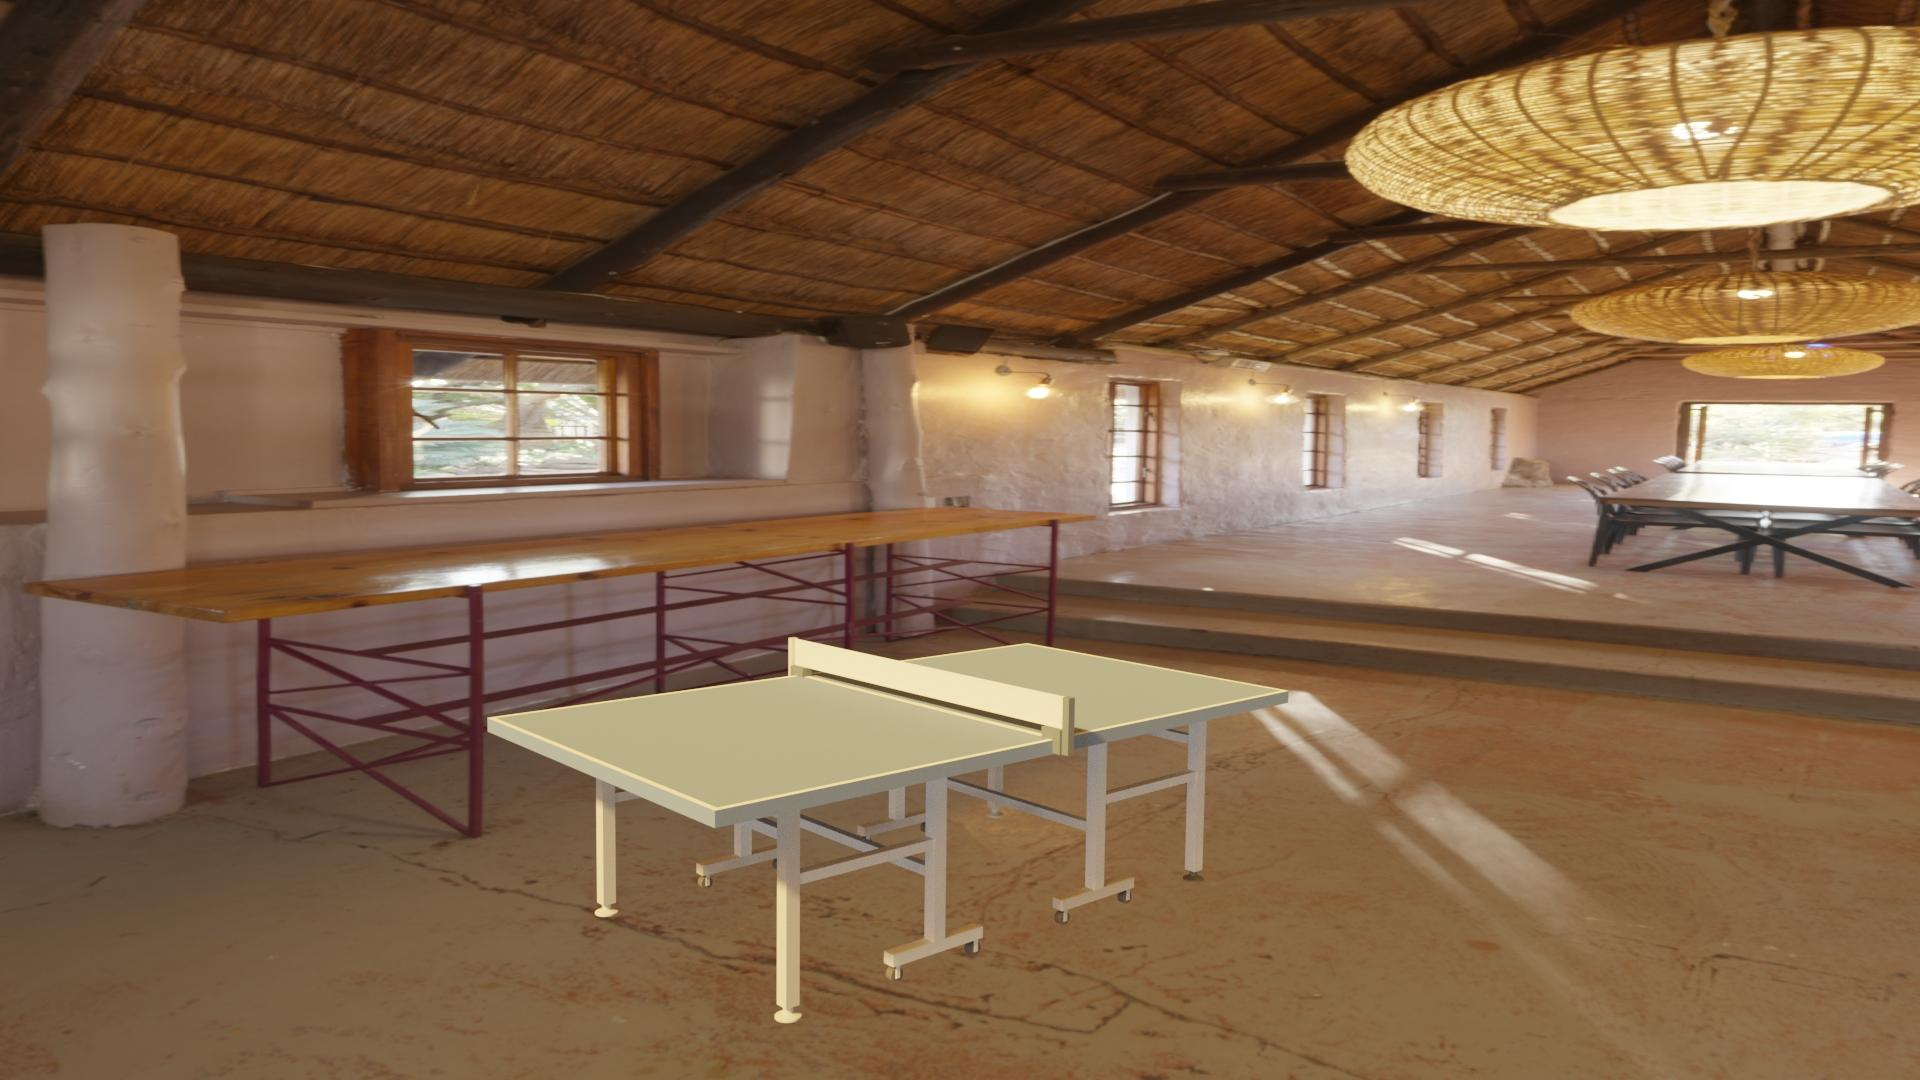table: (495, 645, 1282, 807)
